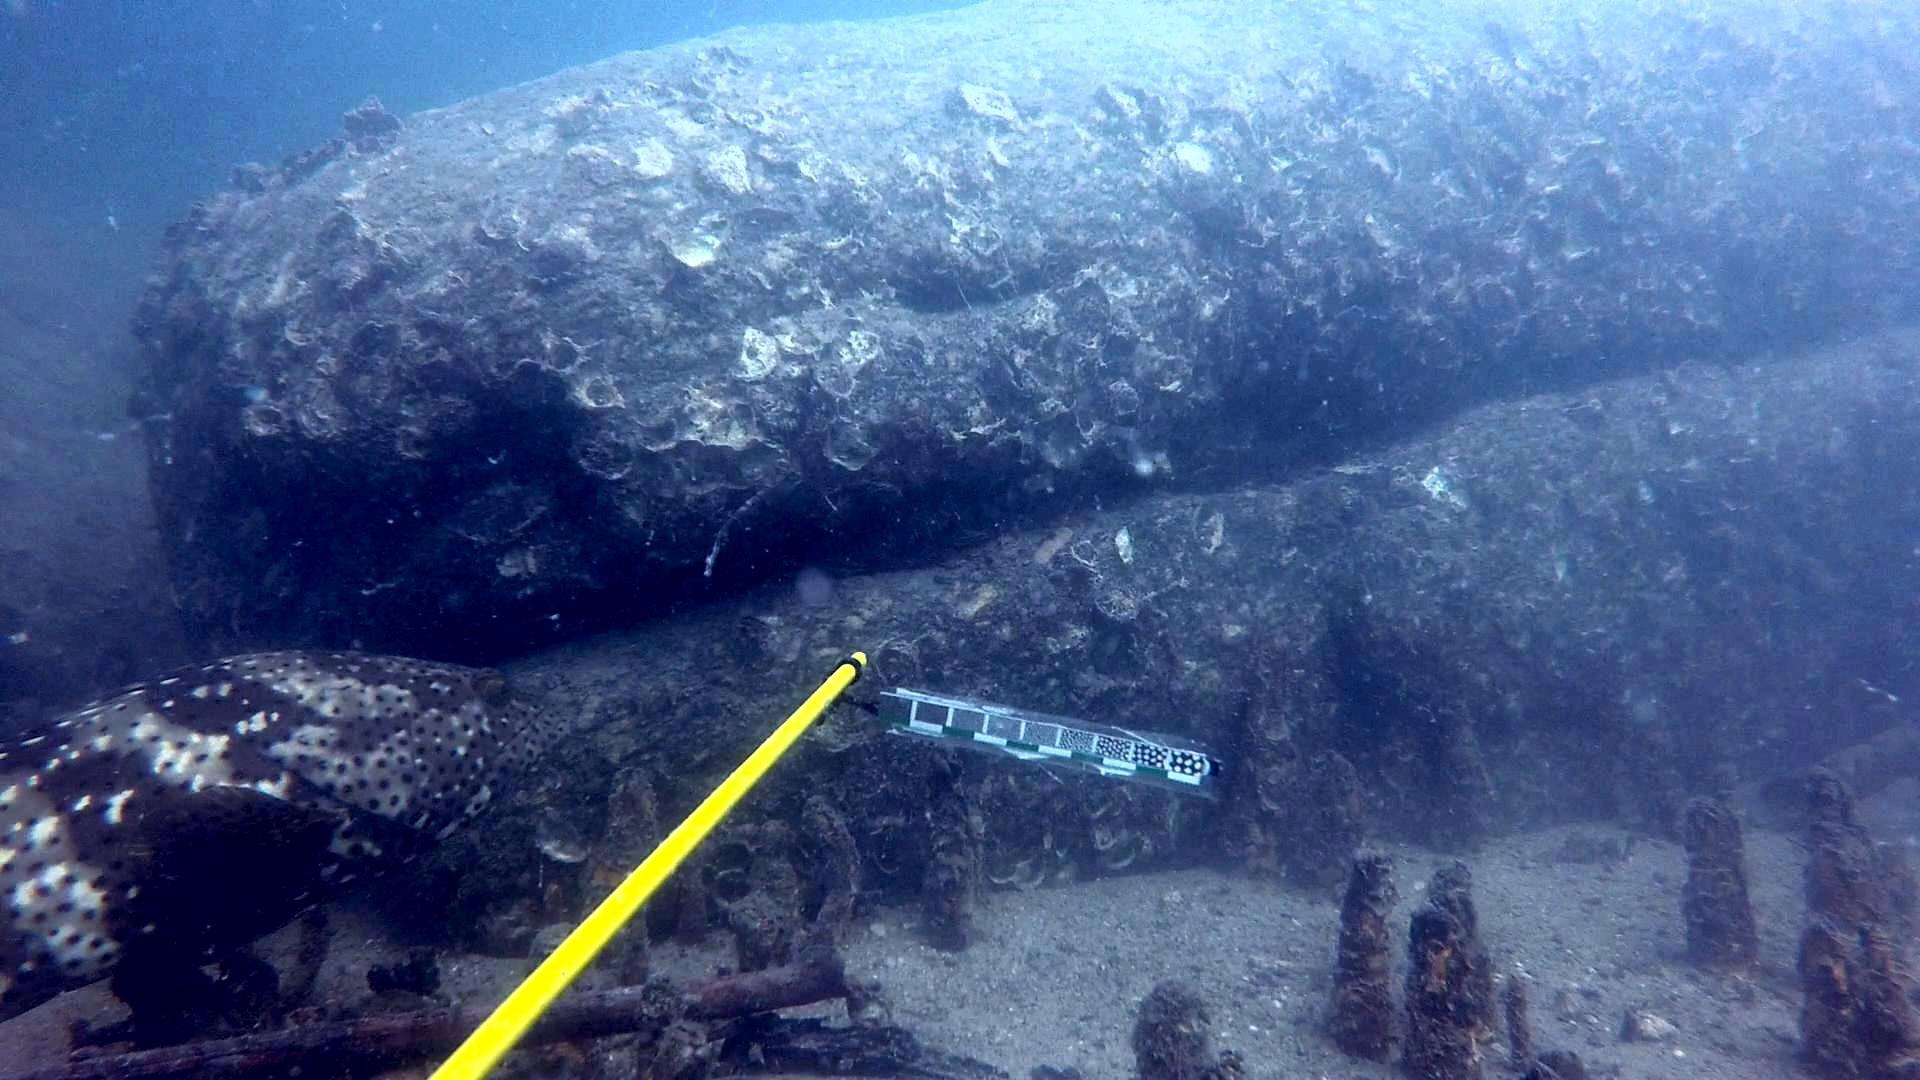epinephelus: (0, 645, 585, 1032)
